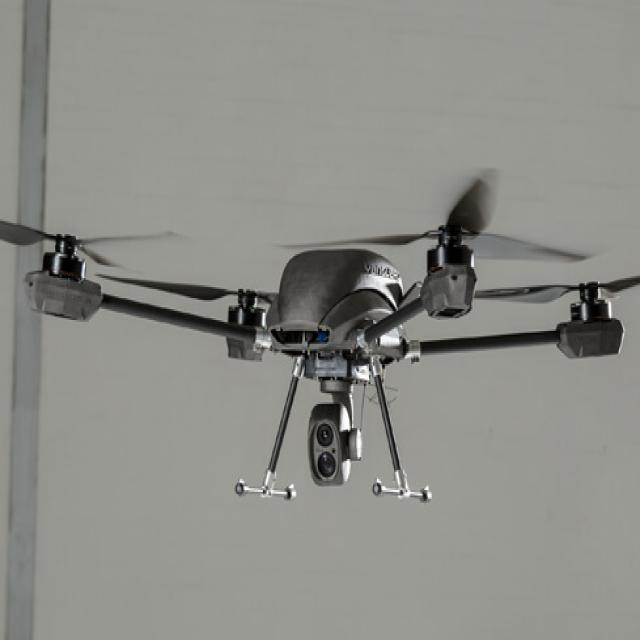drone: (0, 140, 640, 519)
